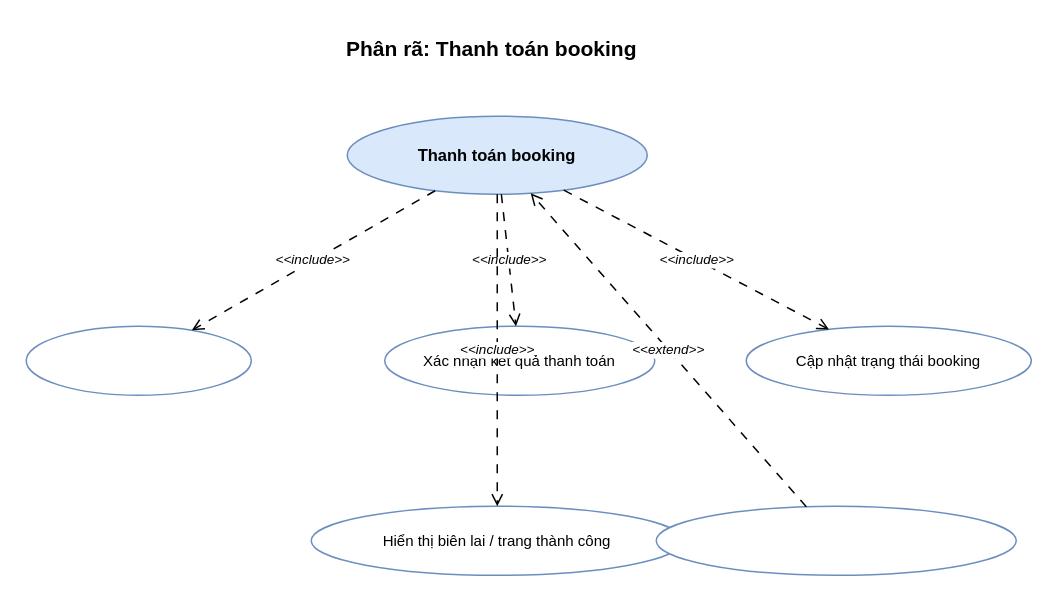
Image size: 1058x602. Some labels were removed from this diagram. Here are the shapes that lost their labels. From the top down, the centre of each, then its label:
the point at 138,360: Mở cổng thanh toán
the point at 835,540: Xử lý thanh toán thất bại / thử lại
